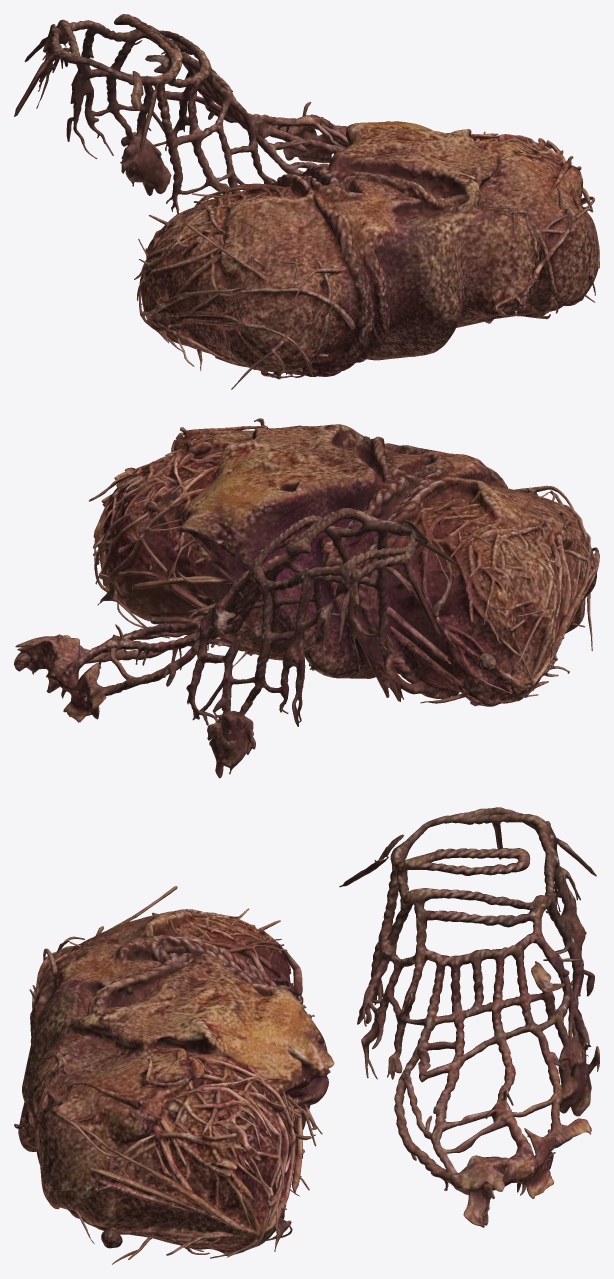
File: shoes.glb
The picture shows the model from 3 angles, top to bottom: view 1: azimuth 30°, elevation 25°; view 2: azimuth 150°, elevation 25°; view 3: azimuth 270°, elevation 25°; orthographic projection. The views are drawn at different scales.
Visible parts, largest first — view 1: tripo_node_6400d5ff-7668-4c60-9cb9-f1e755783371; view 2: tripo_node_6400d5ff-7668-4c60-9cb9-f1e755783371; view 3: tripo_node_6400d5ff-7668-4c60-9cb9-f1e755783371.
Part boxes in pixels (x1,y1,x2,y2): tripo_node_6400d5ff-7668-4c60-9cb9-f1e755783371: [14, 14, 599, 389]; tripo_node_6400d5ff-7668-4c60-9cb9-f1e755783371: [14, 418, 599, 778]; tripo_node_6400d5ff-7668-4c60-9cb9-f1e755783371: [14, 807, 599, 1264].
Size of the model in its own units: 0.9625 by 0.5394 by 0.9997.
1 material, 1 textured.
